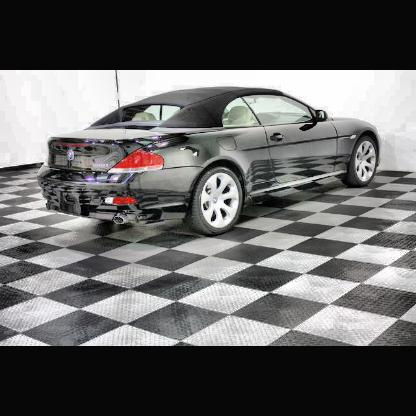BMW 6 Series Convertible 2007: (38, 71, 383, 238)
